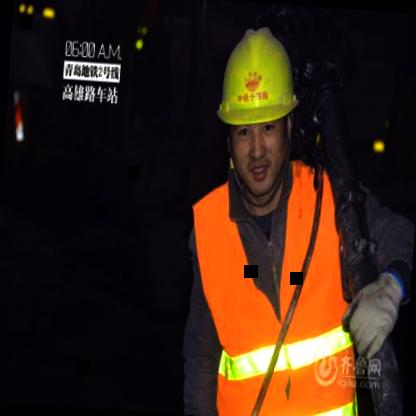helmet: (205, 12, 307, 210)
